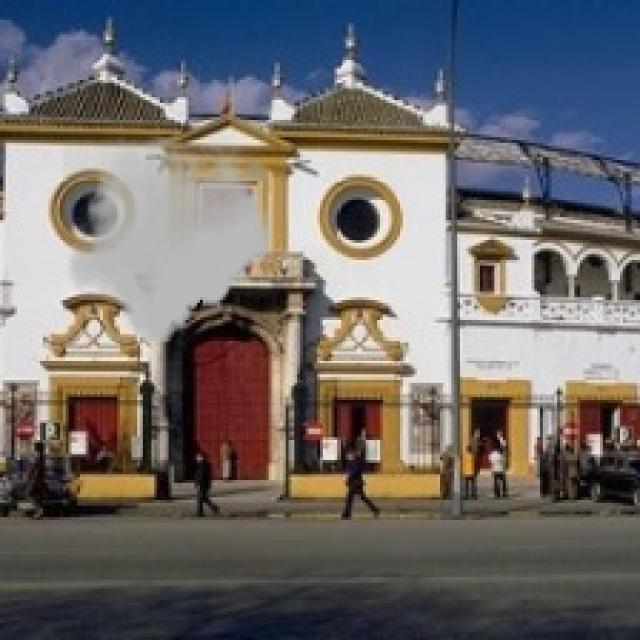smoke: (63, 137, 277, 343)
